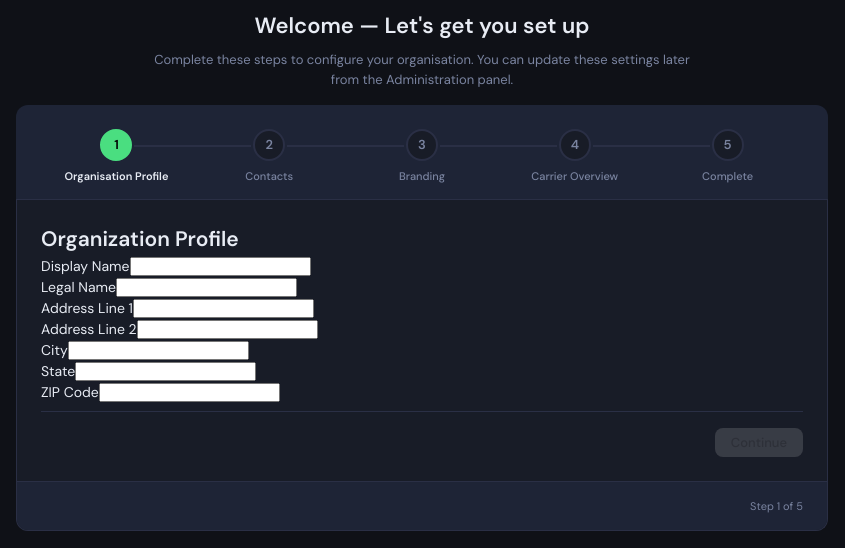
Scenario: OnboardingWizard › step 1: required fields validated before proceeding
Expected: the button "Continue" is disabled, [715, 428, 803, 457]
Note: Filling required fields enables it
Type "ACME Corp" into the field labelled "Display Name" at (220, 266), box [130, 257, 310, 276]
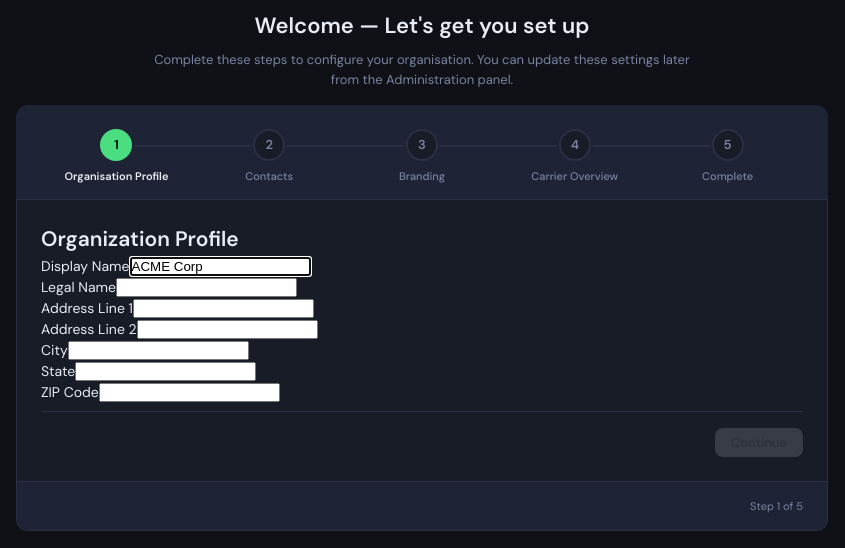
Type "ACME Corporation LLC" into the field labelled "Legal Name" at (206, 287), box [116, 278, 297, 297]
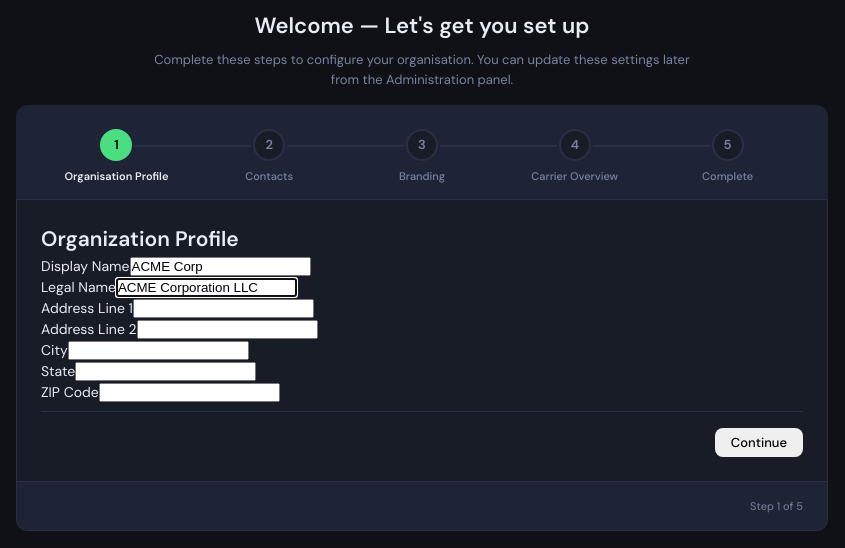
Expected: the button "Continue" is enabled, [715, 428, 803, 457]
